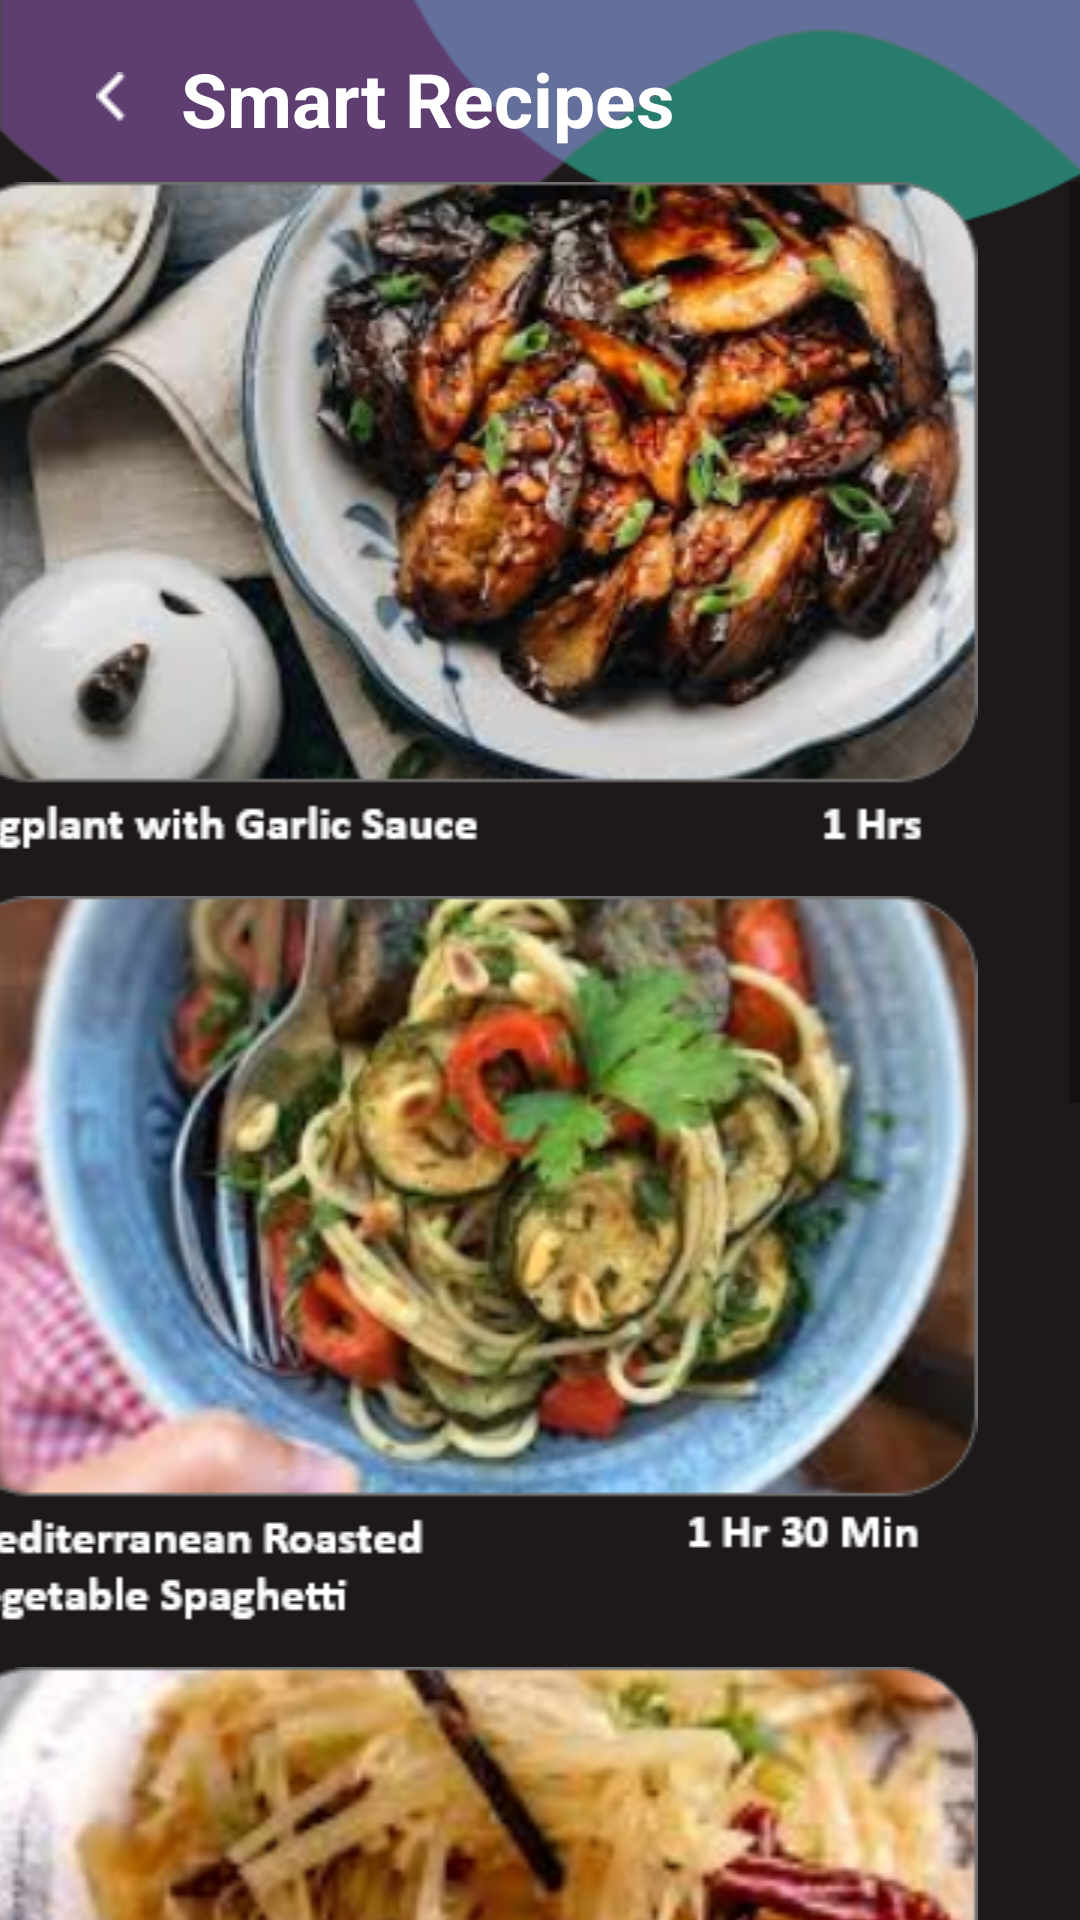

Icon bounding boxes for this 1080×1920 phone screenshot, format [x1=x1, y1=y1, x2=x2, y2=y2]:
back arrow: [x1=96, y1=72, x2=126, y2=121]
